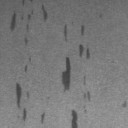red iron: (10, 0, 48, 45), (62, 44, 90, 100), (16, 82, 30, 120), (24, 56, 32, 72), (71, 110, 78, 128), (64, 25, 67, 42), (41, 114, 45, 124), (122, 102, 126, 108), (82, 25, 84, 36)
